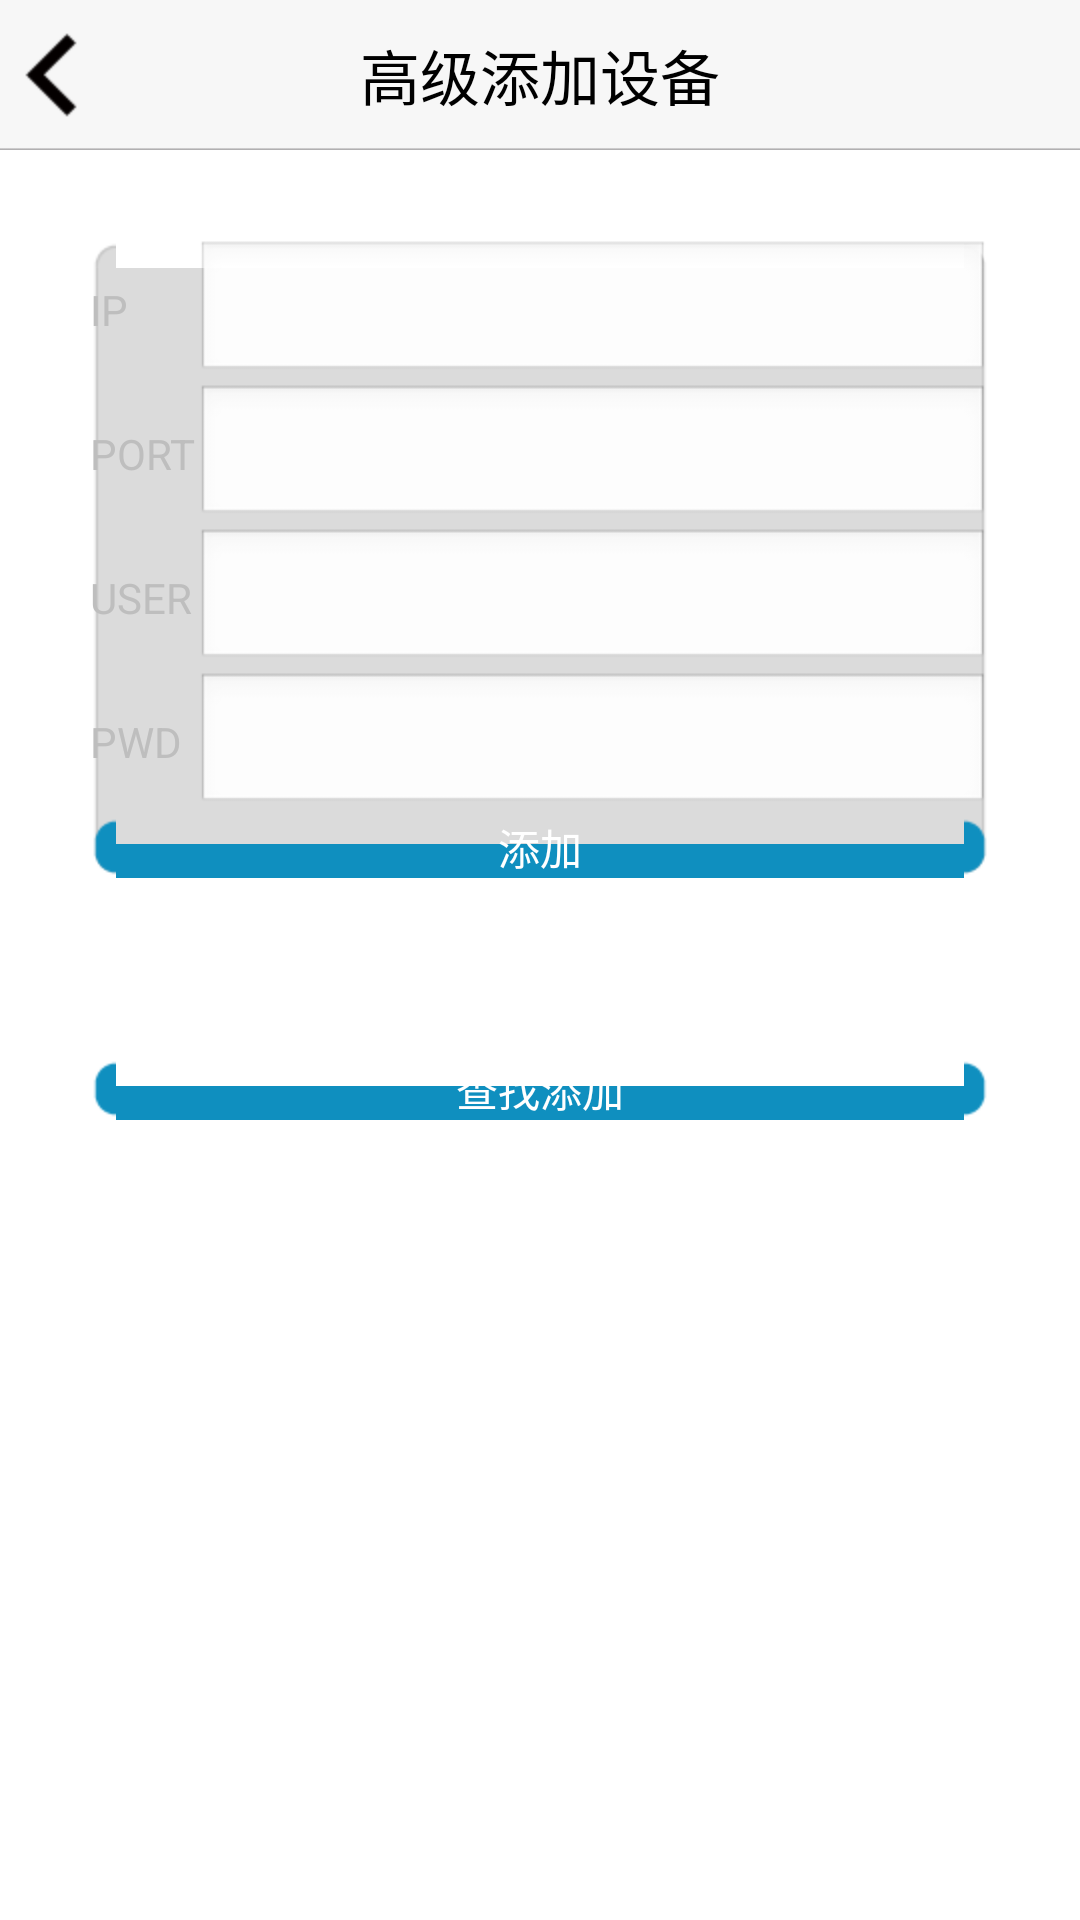

Icon bounding boxes for this 1080*1920 phone screenshot, format (left=x1, top=y1, right=x2, bottom=y2):
back: (left=25, top=33, right=77, bottom=117)
